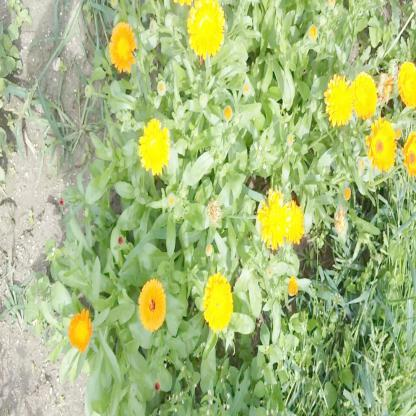marigold: (186, 0, 226, 61), (257, 191, 297, 249), (202, 274, 233, 332), (139, 116, 168, 172), (108, 22, 137, 74), (138, 279, 166, 332), (325, 75, 353, 127), (351, 70, 379, 116), (370, 124, 396, 167), (282, 200, 306, 245), (67, 306, 90, 348), (398, 61, 415, 108), (404, 129, 416, 172)
